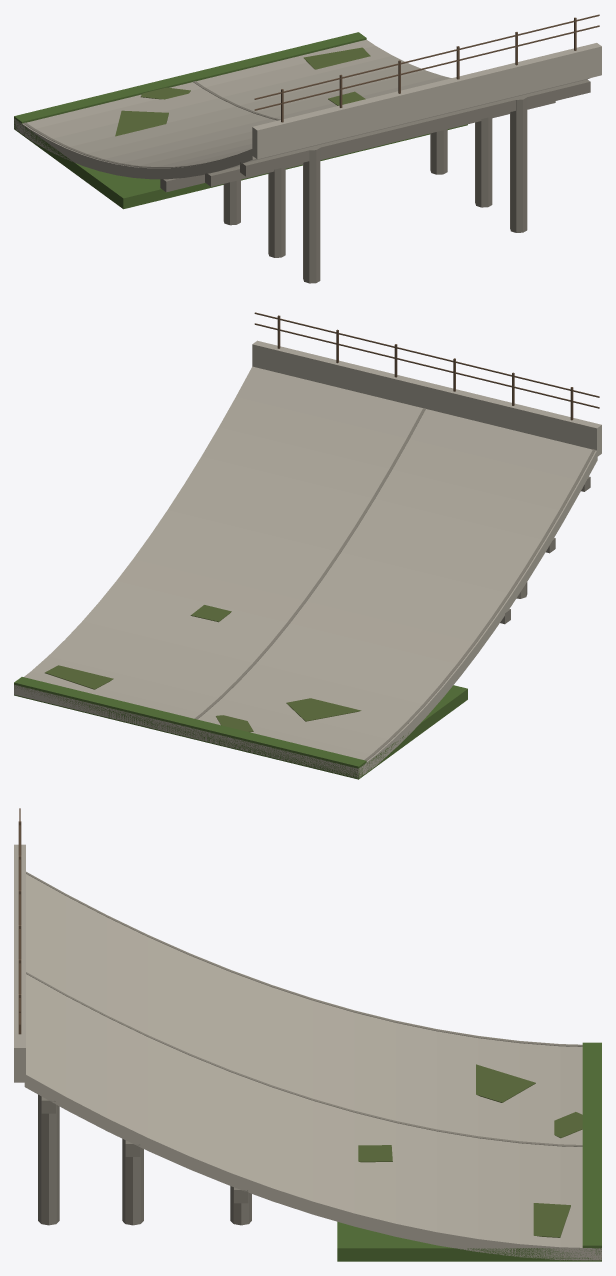
The model's file is peralte-tramo.glb.
The picture shows the model from 3 angles, top to bottom: view 1: azimuth 30°, elevation 25°; view 2: azimuth 150°, elevation 25°; view 3: azimuth 270°, elevation 25°; orthographic projection. The views are drawn at different scales.
Visible parts, largest first — view 1: peralte-tramo; view 2: peralte-tramo; view 3: peralte-tramo.
Part boxes in pixels (x1=…): peralte-tramo: x1=14, y1=14, x2=601, y2=283; peralte-tramo: x1=14, y1=312, x2=601, y2=779; peralte-tramo: x1=14, y1=808, x2=601, y2=1261.
Bounding box in the file's own units: 20 × 11.6 × 24.45.
